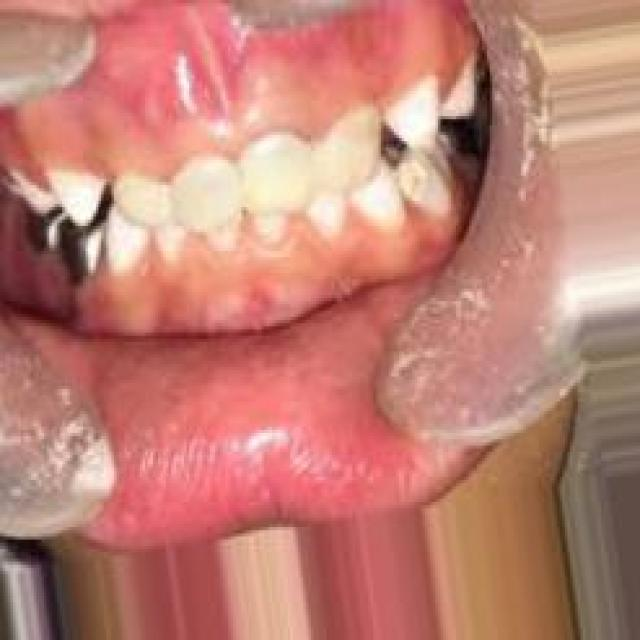caries: (391, 150, 445, 217)
